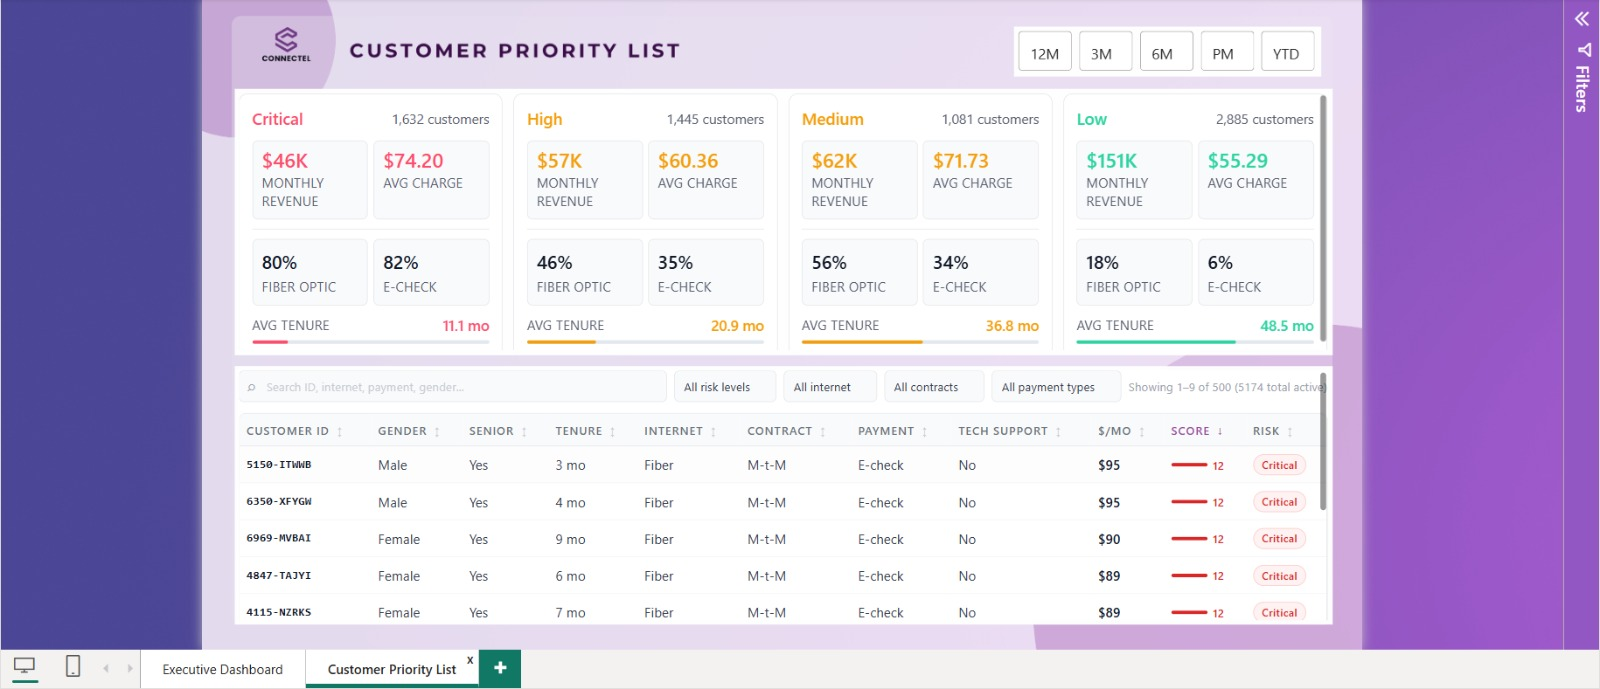

The dashboard page shown, as its layout file describes it:
{"tool":"powerbi","page":{"name":"Details","canvas":[1280,720],"ordinal":1},"visuals":[{"type":"STANDALONEhtmlContent443BE3AD55E043BF878BED274D3A6855","fields":{"content":["_Measures.Risk Cards HTML"]},"box":[36.1,99.6,1211.9,294.3],"z":0},{"type":"STANDALONEhtmlContent443BE3AD55E043BF878BED274D3A6855","fields":{"content":["_Measures.Customer Table HTML"]},"box":[36.1,406.9,1211.9,285.7],"z":1000},{"type":"advancedSlicerVisual","fields":{"Values":["Time Period Table.Time Period"]},"box":[896,31.7,339,54.8],"z":2000}]}

Visuals, with their boxes on the page's 1280x720 design canvas (x1, y1, x2, y2). These are canvas units, not pixel positions in the 1600x689 screenshot, which may show the page scaled, cropped or inside an application window:
STANDALONEhtmlContent443BE3AD55E043BF878BED274D3A6855 - _Measures.Risk Cards HTML: Rect(36, 100, 1248, 394)
STANDALONEhtmlContent443BE3AD55E043BF878BED274D3A6855 - _Measures.Customer Table HTML: Rect(36, 407, 1248, 693)
advancedSlicerVisual - Time Period Table.Time Period: Rect(896, 32, 1235, 86)
